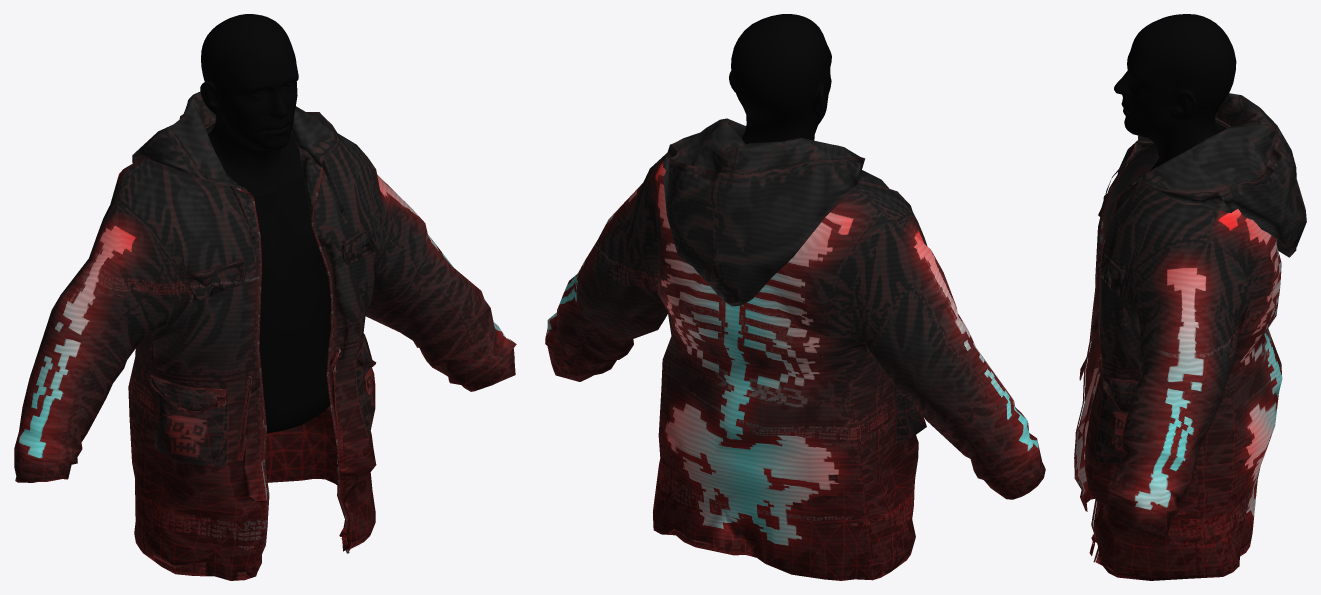
File: workshop-corrupted-jacket.glb
3 renders of one model, left to right at view 1: azimuth 30°, elevation 25°; view 2: azimuth 150°, elevation 25°; view 3: azimuth 270°, elevation 25°, orthographic. The views are drawn at different scales.
Parts seen in each view (by area): view 1: Object_2, Object_3; view 2: Object_2, Object_3; view 3: Object_2, Object_3.
Boxes of the visible parts, x1,y1,x2,y2 form: Object_2: [14, 92, 516, 580]; Object_3: [200, 14, 330, 433]; Object_2: [545, 118, 1045, 580]; Object_3: [729, 14, 831, 144]; Object_2: [1074, 93, 1306, 580]; Object_3: [1114, 14, 1236, 171].
Bounding box in the file's own units: 8.2 × 8.36 × 3.4.
Materials: 2 (1 with a texture image).
